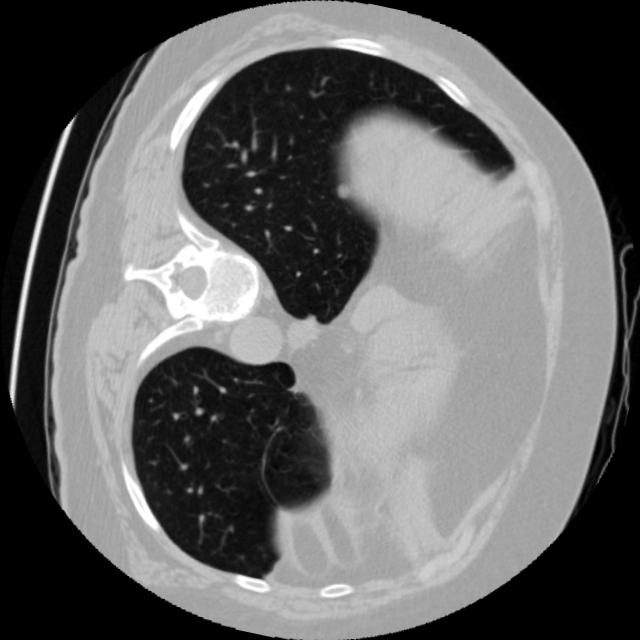nodule: (324, 170, 362, 208)
